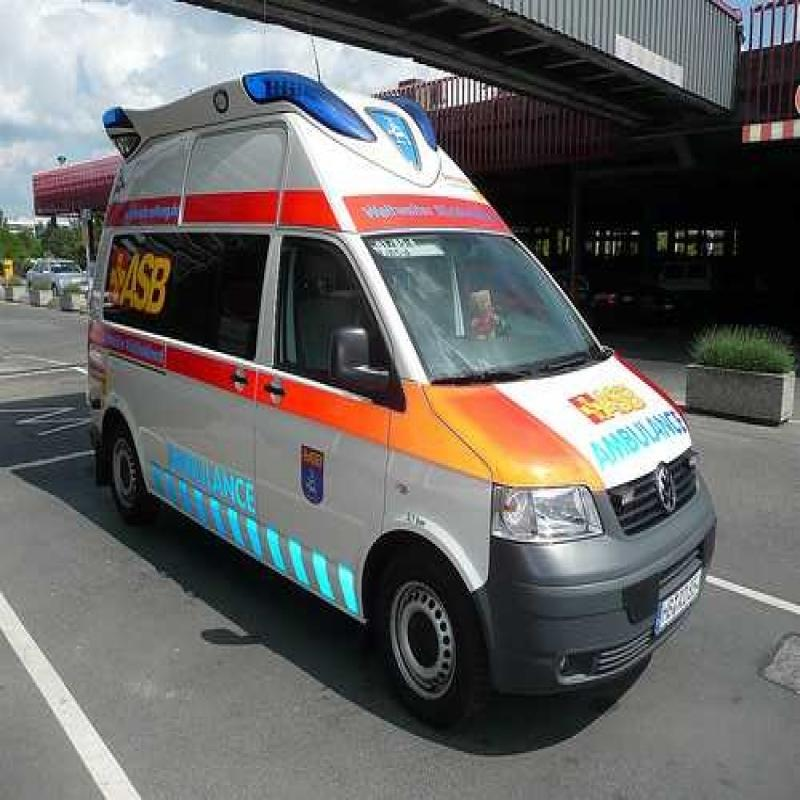AmbulanceSiren: (246, 50, 437, 188)
